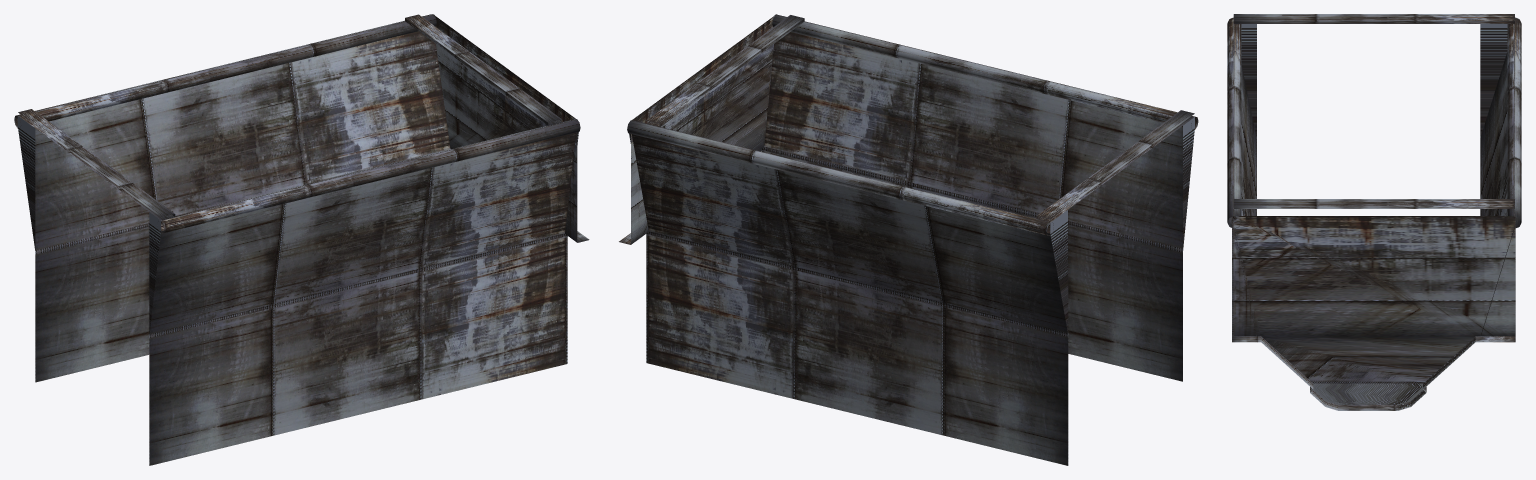
Rendered from conveyor_hatch_01.DAE.
The picture shows the model from 3 angles, left to right: view 1: azimuth 30°, elevation 25°; view 2: azimuth 150°, elevation 25°; view 3: azimuth 270°, elevation 25°; orthographic projection. The views are drawn at different scales.
Visible parts, largest first — view 1: Cylinder001; view 2: Cylinder001; view 3: Cylinder001.
Boxes of the visible parts, box(x1,y1,x2,y2) form: Cylinder001: box(14, 14, 589, 465); Cylinder001: box(619, 14, 1198, 465); Cylinder001: box(1227, 14, 1521, 410).
Size of the model in its own units: 8.67 by 4.98 by 5.27.
